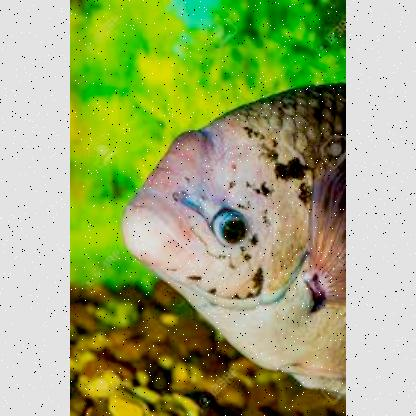gurame: (134, 89, 344, 387)
